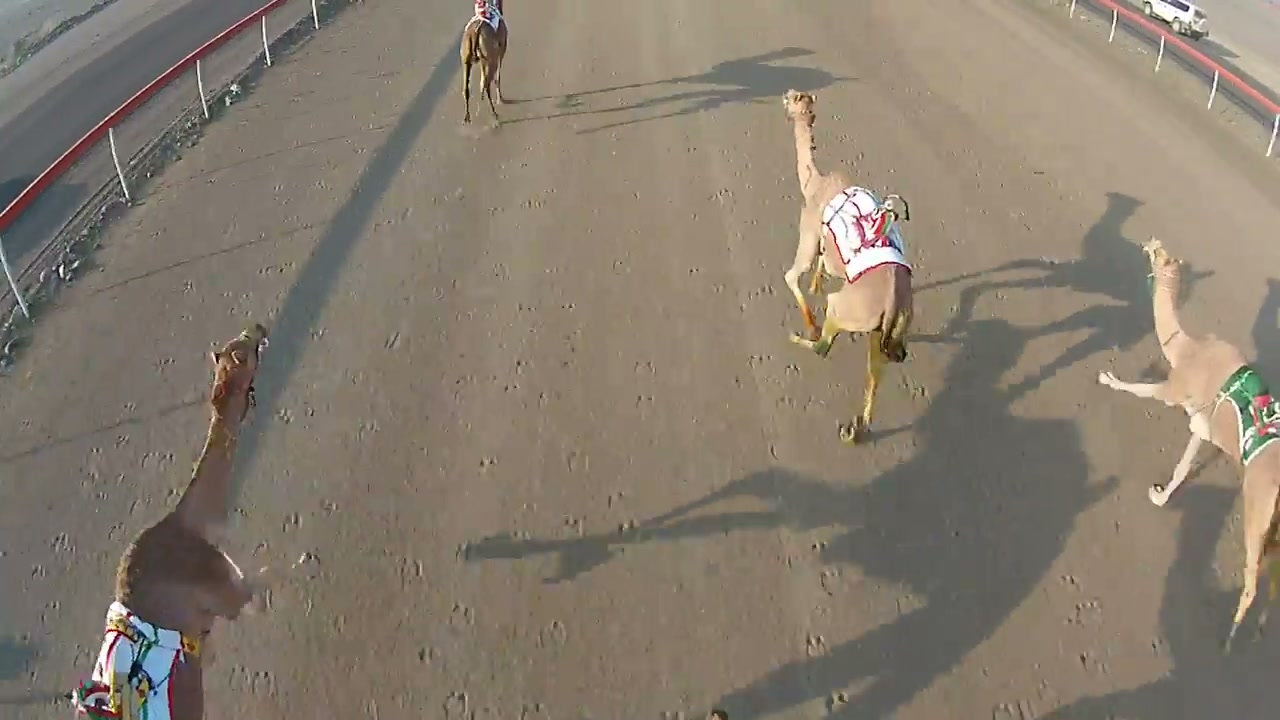animal_foot_print: (693, 178, 866, 719), (380, 409, 597, 719)
